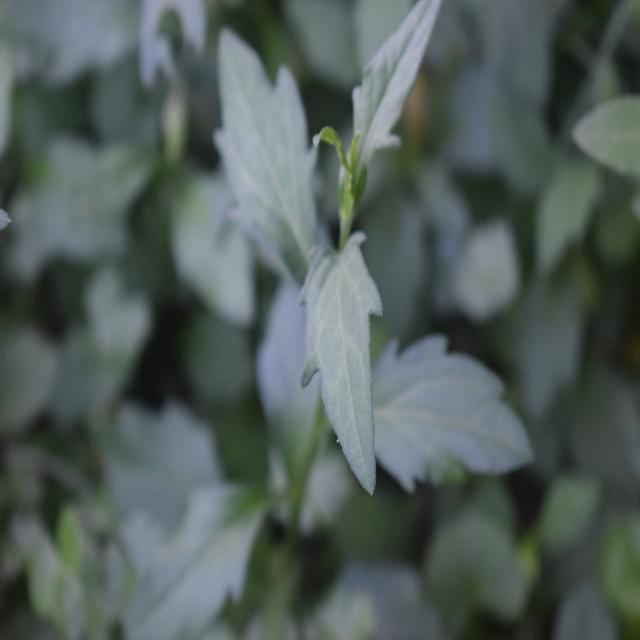Indian aster: (203, 10, 507, 532)
